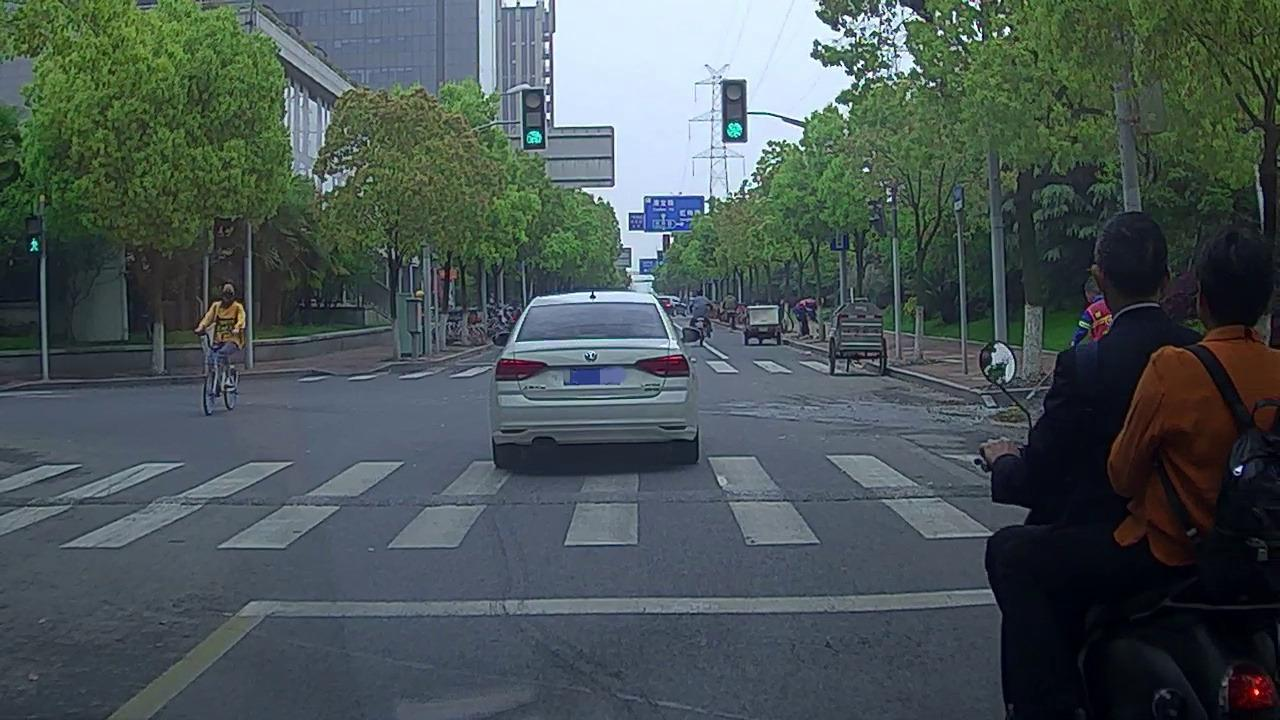traffic_light: (725, 80, 746, 145), (523, 88, 545, 148)
